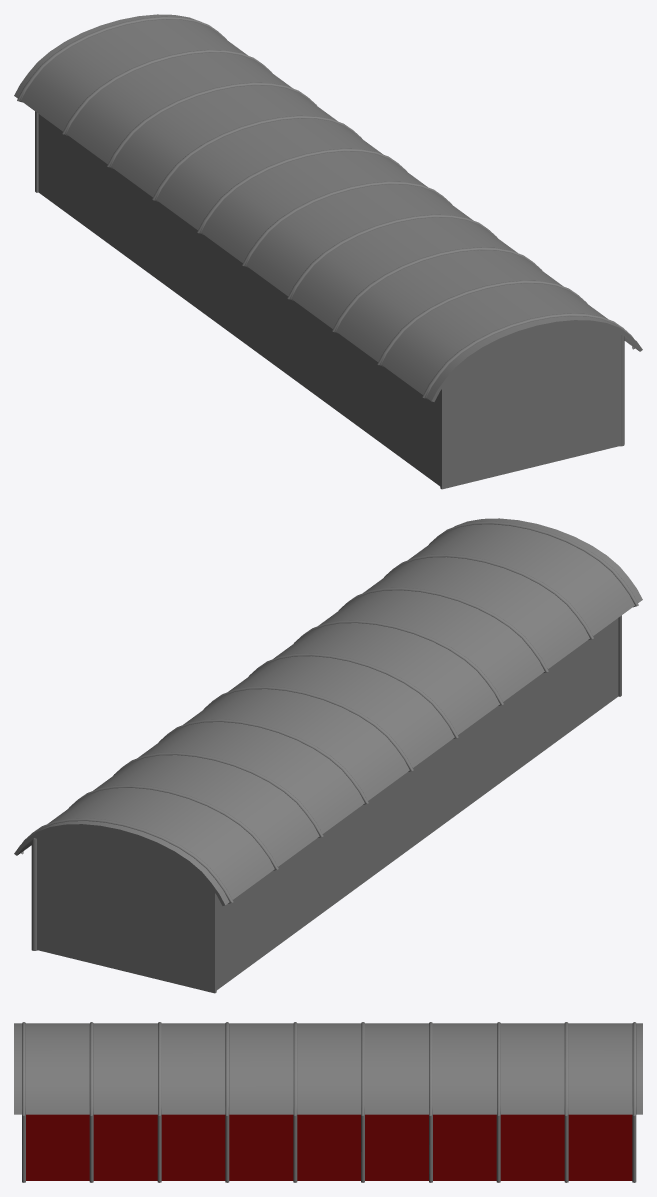
File: house_C.FBX
3 renders of one model, top to bottom at view 1: azimuth 30°, elevation 25°; view 2: azimuth 150°, elevation 25°; view 3: azimuth 270°, elevation 25°, orthographic. The views are drawn at different scales.
Visible parts, largest first — view 1: HOUSE; view 2: HOUSE; view 3: HOUSE.
Boxes of the visible parts, box(x1,y1,x2,y2) form: HOUSE: box(14, 14, 642, 489); HOUSE: box(14, 518, 642, 993); HOUSE: box(14, 1022, 642, 1182).
Size of the model in its own units: 4087 by 2680 by 13685.
